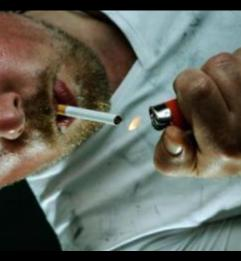Cigarette: (56, 102, 121, 125)
